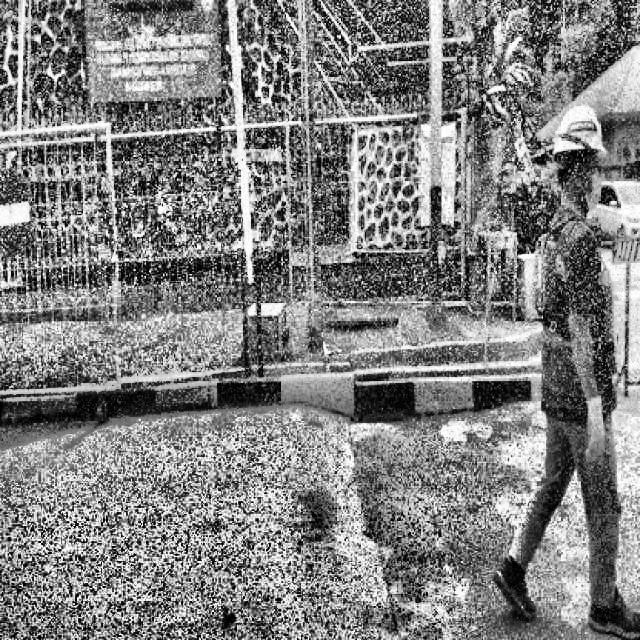safety_helmet: (552, 104, 611, 161)
safety_jacket: (526, 233, 623, 420)
